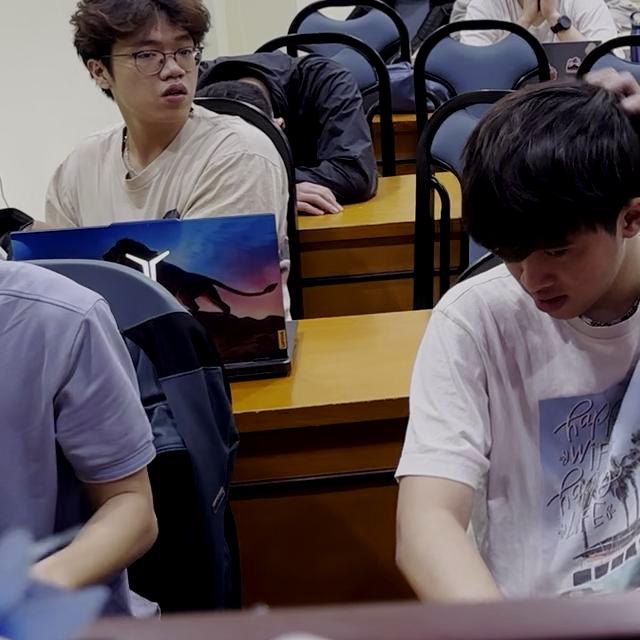Looking away: (502, 223, 624, 323)
Looking forward: (111, 27, 198, 124)
